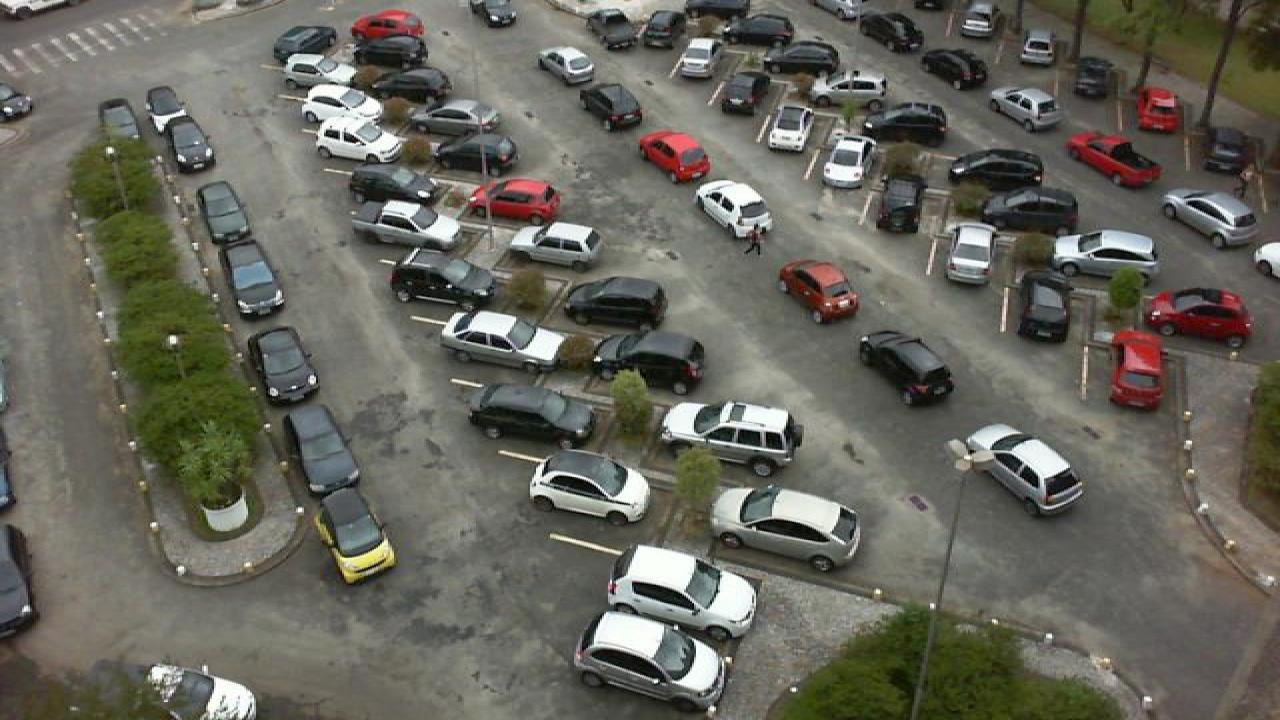Car: (570, 609, 730, 712), (600, 544, 762, 644), (710, 482, 866, 572), (954, 421, 1086, 516), (658, 398, 808, 477), (466, 382, 600, 454), (526, 448, 654, 523), (436, 310, 570, 377), (312, 488, 398, 585), (856, 329, 956, 406), (592, 330, 712, 394), (284, 404, 364, 494), (348, 200, 464, 256), (388, 248, 498, 307), (1158, 187, 1260, 248), (1142, 286, 1256, 340), (244, 326, 322, 404), (560, 274, 672, 328), (1052, 229, 1164, 282), (776, 259, 864, 323), (1064, 132, 1164, 186), (464, 176, 566, 228), (1106, 328, 1168, 412), (222, 241, 290, 317), (508, 218, 606, 269), (980, 187, 1084, 235), (316, 112, 408, 166), (694, 180, 776, 240), (342, 163, 442, 209), (946, 148, 1046, 194), (432, 129, 520, 179), (860, 99, 952, 146), (1016, 270, 1074, 344), (940, 220, 1002, 288), (634, 130, 712, 184), (194, 181, 254, 250), (296, 82, 386, 126), (408, 97, 502, 137), (816, 131, 878, 190), (578, 81, 646, 133), (986, 86, 1064, 130), (376, 64, 454, 106), (918, 46, 992, 90), (874, 173, 926, 235), (160, 116, 216, 173), (278, 52, 362, 89), (856, 9, 924, 54), (764, 37, 844, 75), (716, 11, 796, 47), (350, 35, 430, 70), (96, 98, 148, 151), (764, 100, 816, 152), (718, 69, 774, 117), (270, 24, 342, 61), (1198, 125, 1252, 174), (582, 8, 642, 52), (534, 45, 598, 85), (810, 70, 890, 101), (1134, 85, 1184, 134), (350, 9, 428, 39), (1068, 54, 1116, 99), (146, 84, 188, 134), (674, 36, 720, 81), (640, 9, 684, 51), (1018, 28, 1058, 68), (958, 0, 998, 39)
